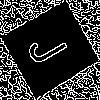J: (25, 24, 77, 69)
